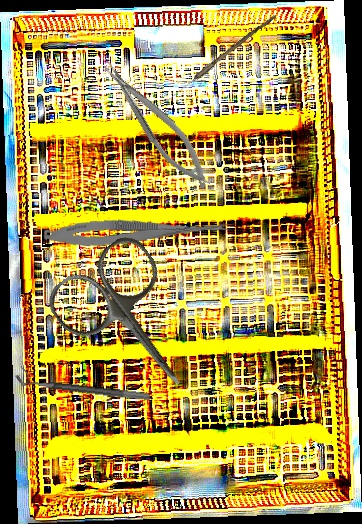Fixation Ring: (14, 365, 152, 402)
Iris Scissors: (40, 229, 223, 419)
Micro Scissor: (42, 210, 238, 251)
Needle Holder: (97, 51, 218, 198)
Surgical Spoon: (165, 12, 277, 104)
